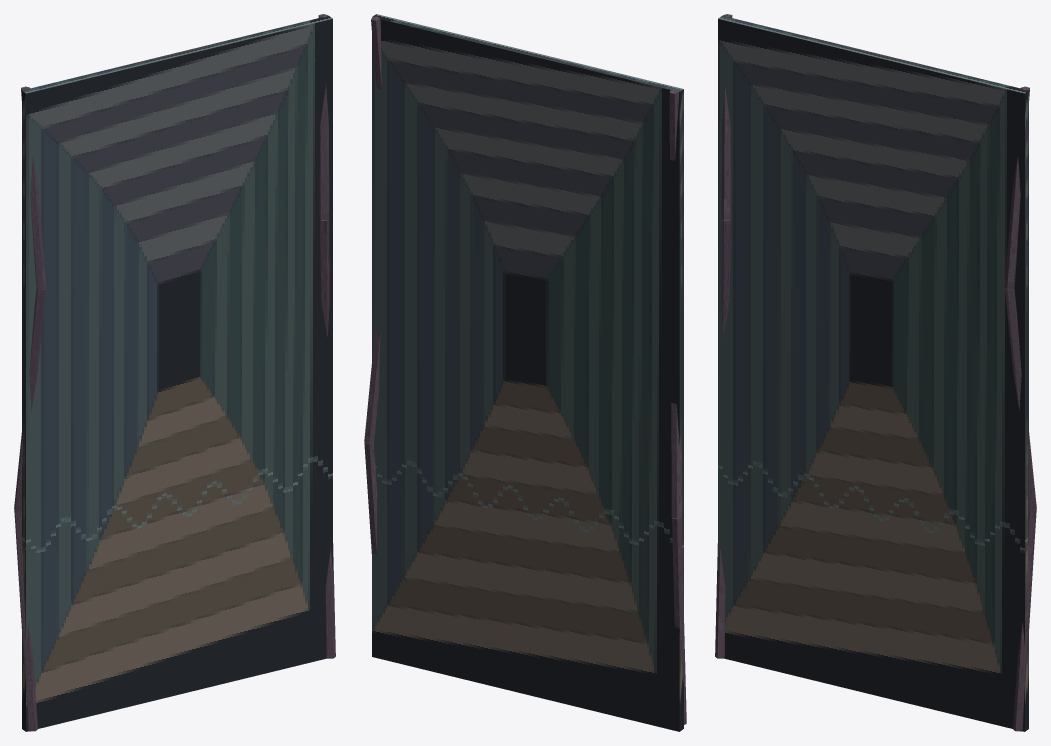
Rendered from f_LIXA_unfold_barrier.glb.
The picture shows the model from 3 angles, left to right: view 1: azimuth 30°, elevation 25°; view 2: azimuth 150°, elevation 25°; view 3: azimuth 330°, elevation 25°; orthographic projection.
Parts seen in each view (by area): view 1: block_towering-unfolding-tunnel-boundary, block_wave-edge-1 (×2), block_wave-edge-3 (×2), block_wave-edge-2 (×2); view 2: block_towering-unfolding-tunnel-boundary, block_wave-edge-1 (×2), block_wave-edge-2 (×2), block_wave-edge-3 (×2); view 3: block_towering-unfolding-tunnel-boundary, block_wave-edge-1 (×2), block_wave-edge-3 (×2), block_wave-edge-2 (×2).
Part boxes in pixels (left/top/right/bottom): block_towering-unfolding-tunnel-boundary: left=22, top=15, right=332, bottom=731; block_wave-edge-1 (×2): left=14, top=510, right=335, bottom=731; block_wave-edge-3 (×2): left=21, top=14, right=329, bottom=289; block_wave-edge-2 (×2): left=14, top=219, right=329, bottom=511; block_towering-unfolding-tunnel-boundary: left=372, top=14, right=683, bottom=731; block_wave-edge-1 (×2): left=364, top=442, right=686, bottom=724; block_wave-edge-2 (×2): left=364, top=330, right=681, bottom=518; block_wave-edge-3 (×2): left=371, top=16, right=678, bottom=160; block_towering-unfolding-tunnel-boundary: left=718, top=15, right=1028, bottom=731; block_wave-edge-1 (×2): left=715, top=510, right=1036, bottom=731; block_wave-edge-3 (×2): left=721, top=14, right=1029, bottom=289; block_wave-edge-2 (×2): left=721, top=219, right=1036, bottom=511.
Size of the model in its own units: 0.9826 by 1.9 by 0.0823.
1 material, 1 textured.
